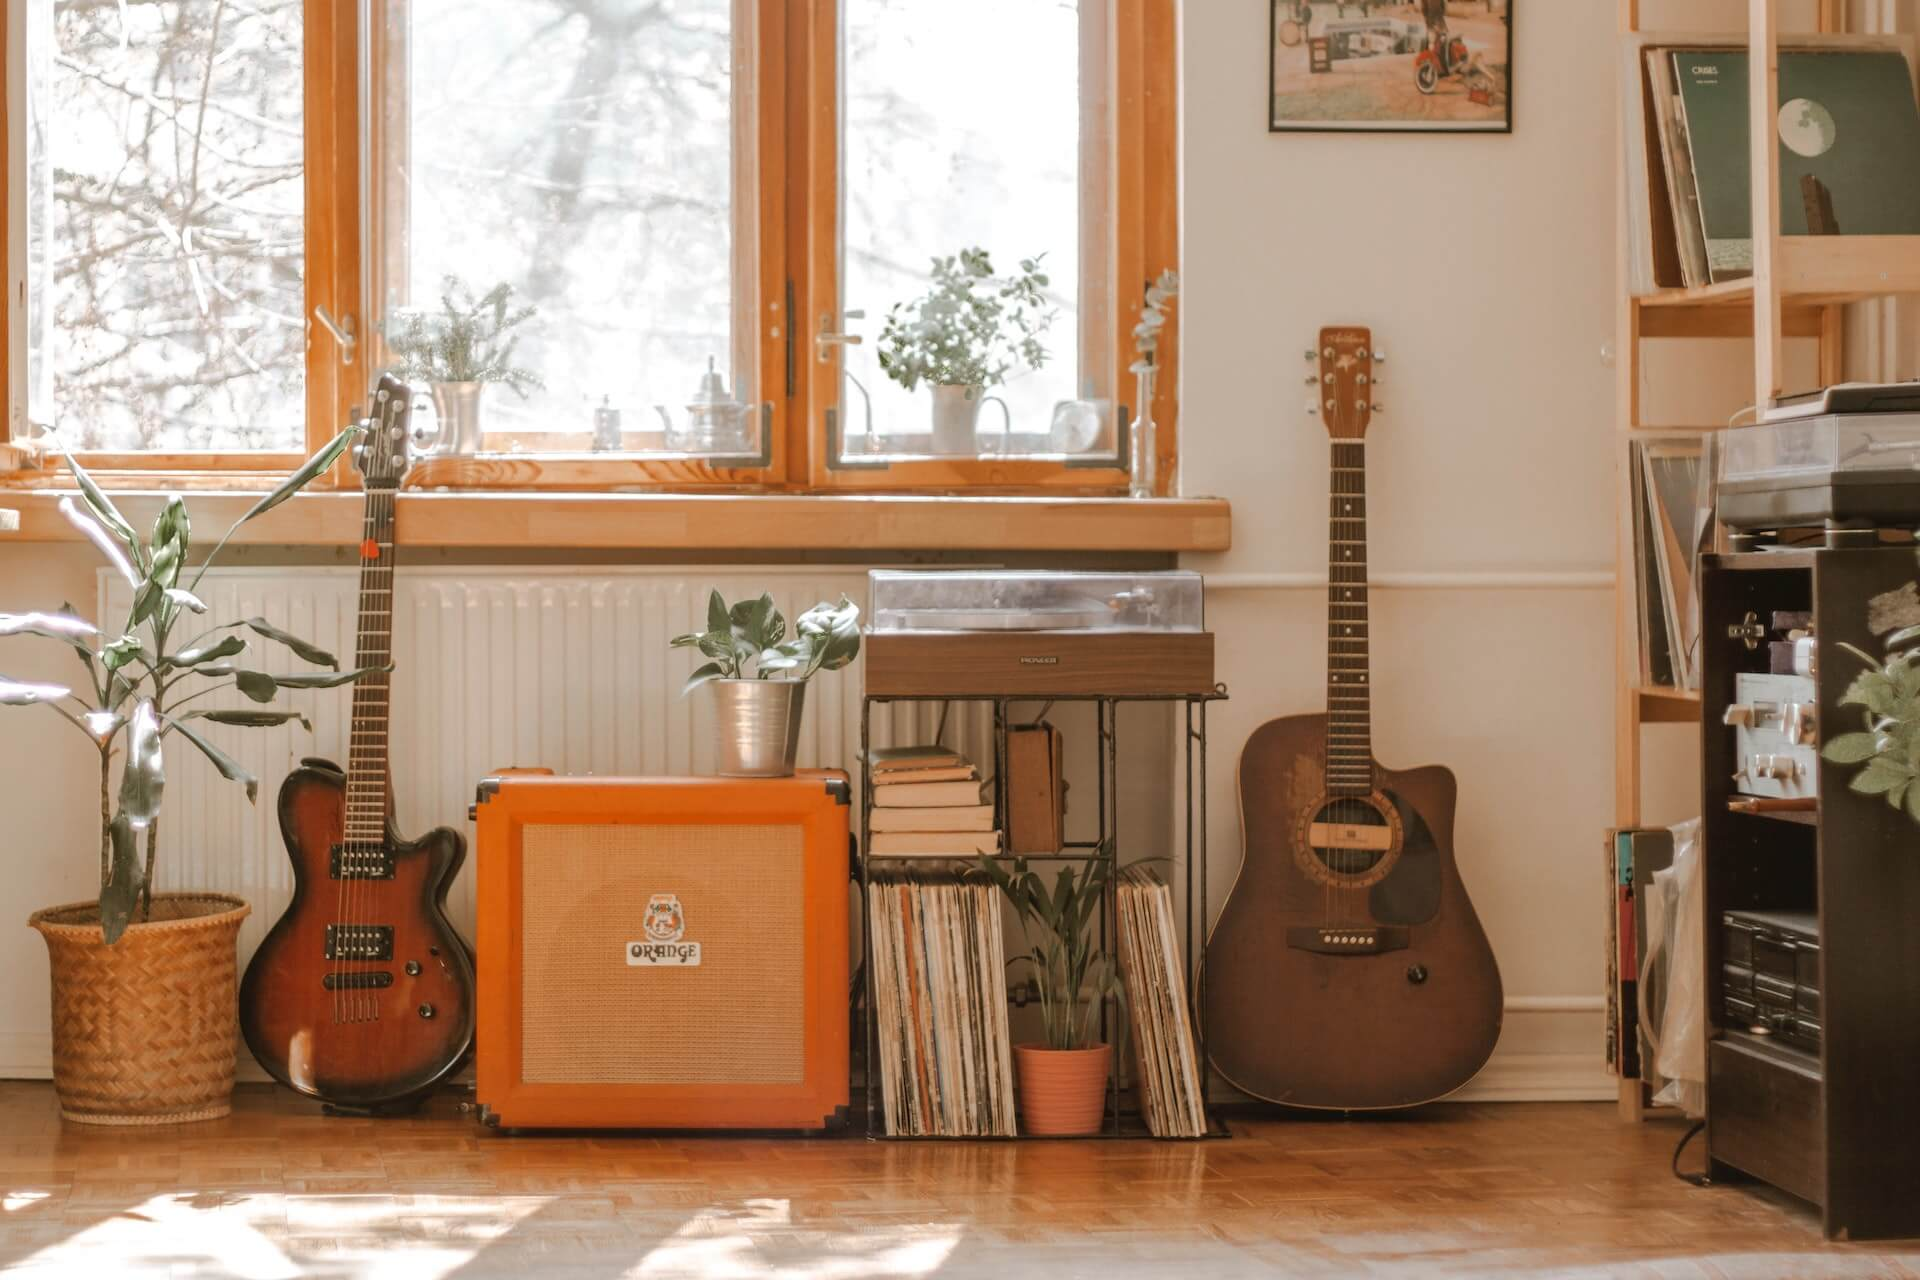guitar: (1196, 326, 1506, 1119), (239, 363, 479, 1119)
